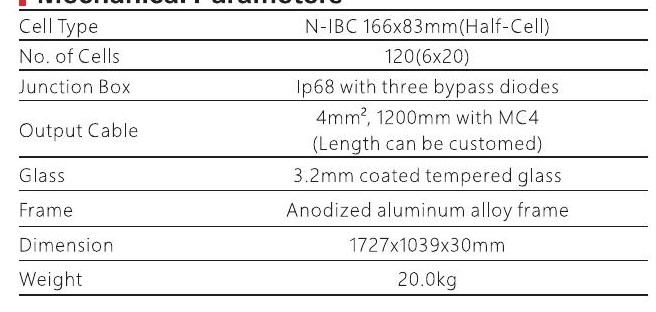table: (4, 6, 654, 301)
table column: (257, 8, 647, 298), (15, 9, 251, 298)
table row: (9, 103, 653, 155), (7, 193, 654, 224), (7, 230, 653, 259), (6, 265, 653, 293), (7, 160, 652, 188), (9, 43, 652, 68), (9, 73, 652, 98), (9, 12, 650, 37)
